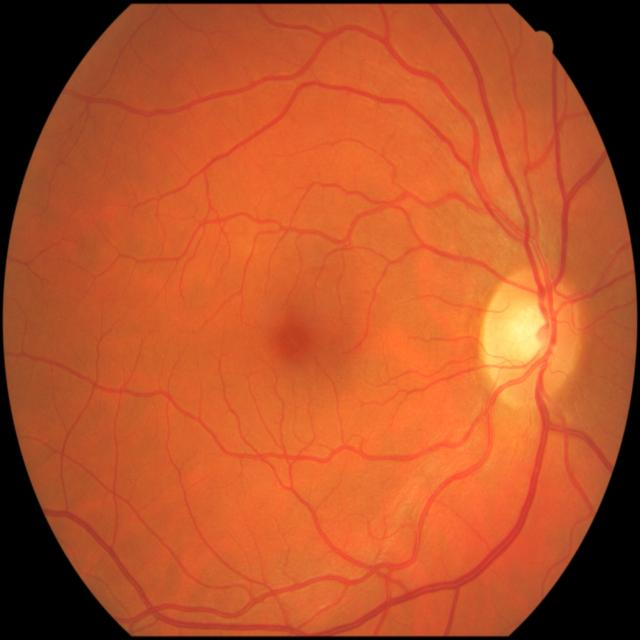OC: (507, 306, 548, 359)
OD: (482, 266, 581, 412)
